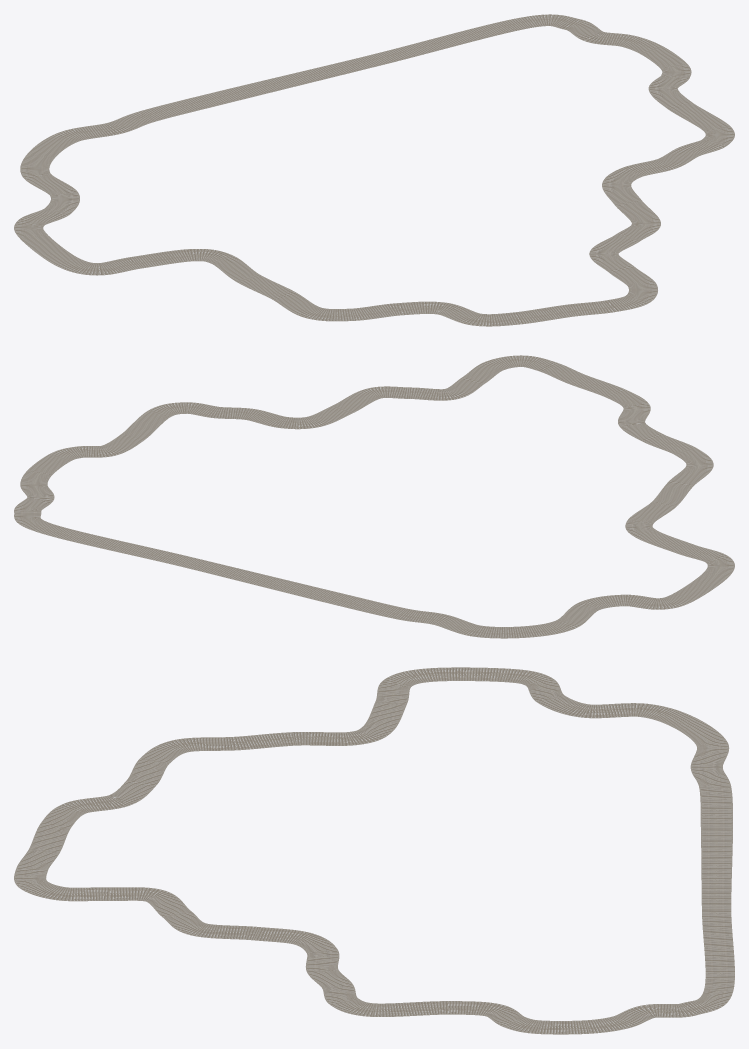
The model's file is BR_Road.FBX.
3 renders of one model, top to bottom at view 1: azimuth 30°, elevation 25°; view 2: azimuth 150°, elevation 25°; view 3: azimuth 270°, elevation 25°, orthographic. The views are drawn at different scales.
Parts seen in each view (by area): view 1: Road; view 2: Road; view 3: Road.
Boxes of the visible parts, bbox=[...] form: Road: bbox=[14, 14, 734, 326]; Road: bbox=[14, 355, 734, 638]; Road: bbox=[14, 667, 734, 1034].
Size of the model in its own units: 24723 by 20521 by 0.00155.
1 material, 1 textured.
